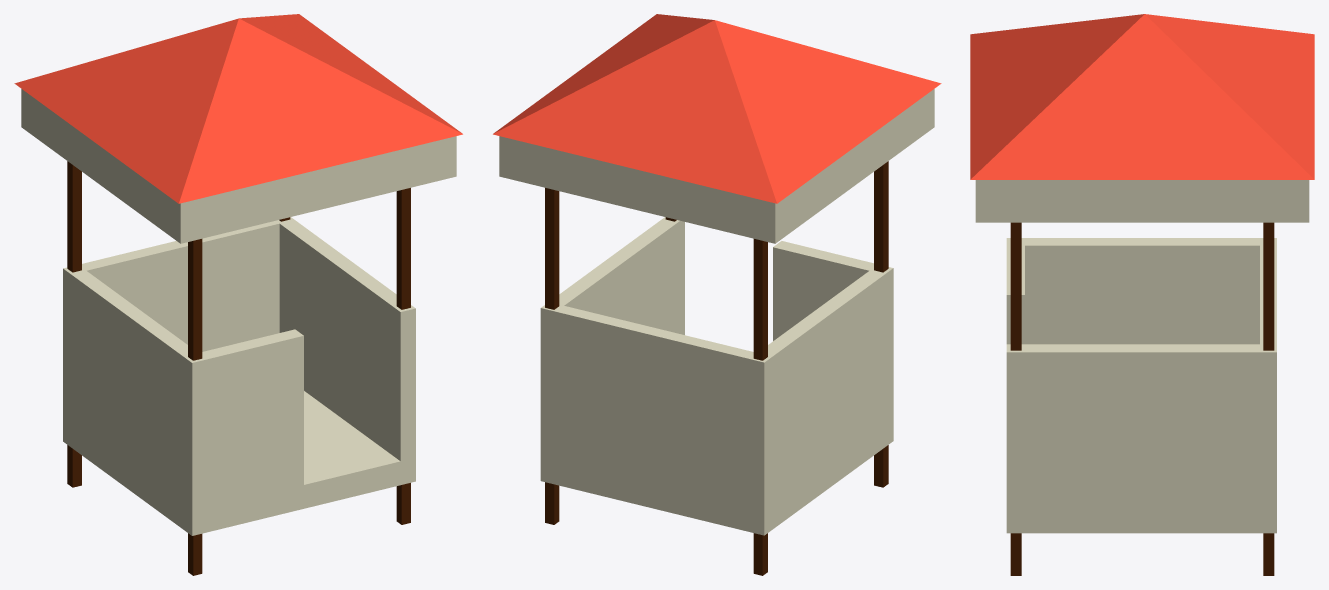
File: gate2.fbx
3 views of the same model, side by side, from view 1: azimuth 30°, elevation 25°; view 2: azimuth 150°, elevation 25°; view 3: azimuth 270°, elevation 25° (orthographic). The views are drawn at different scales.
Visible parts, largest first — view 1: Cube.006, Cube.001, Cube, Cube.004, Cube.005, Cube.002; view 2: Cube.006, Cube.001, Cube, Cube.002, Cube.003, Cube.004; view 3: Cube.006, Cube.001, Cube, Cube.003, Cube.005.
Part boxes in pixels (box(x1,y1,x2,y2)): Cube.006: box(63, 217, 415, 535); Cube.001: box(14, 14, 462, 203); Cube: box(21, 89, 456, 243); Cube.004: box(188, 239, 202, 575); Cube.005: box(396, 188, 410, 524); Cube.002: box(67, 161, 81, 487); Cube.006: box(540, 217, 893, 535); Cube.001: box(493, 14, 941, 203); Cube: box(499, 89, 934, 243); Cube.002: box(753, 239, 767, 575); Cube.003: box(545, 188, 559, 524); Cube.004: box(874, 161, 888, 487); Cube.006: box(1006, 238, 1276, 533); Cube.001: box(970, 14, 1314, 179); Cube: box(975, 180, 1309, 222); Cube.003: box(1263, 222, 1274, 575); Cube.005: box(1010, 222, 1021, 575).
Bounding box in the file's own units: 1043 × 1693 × 1043.
